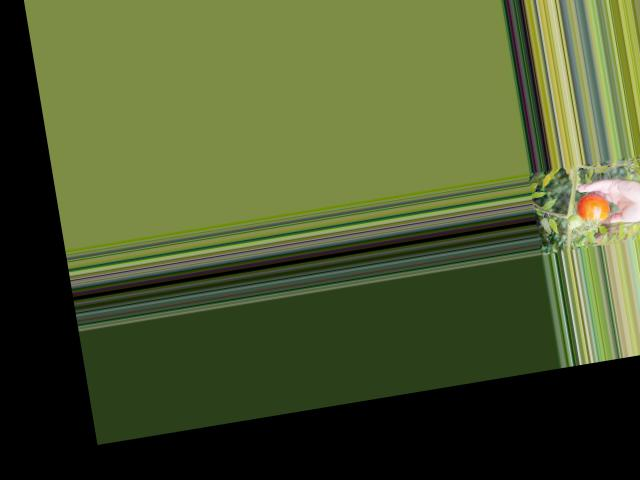tomato: (574, 191, 612, 225)
